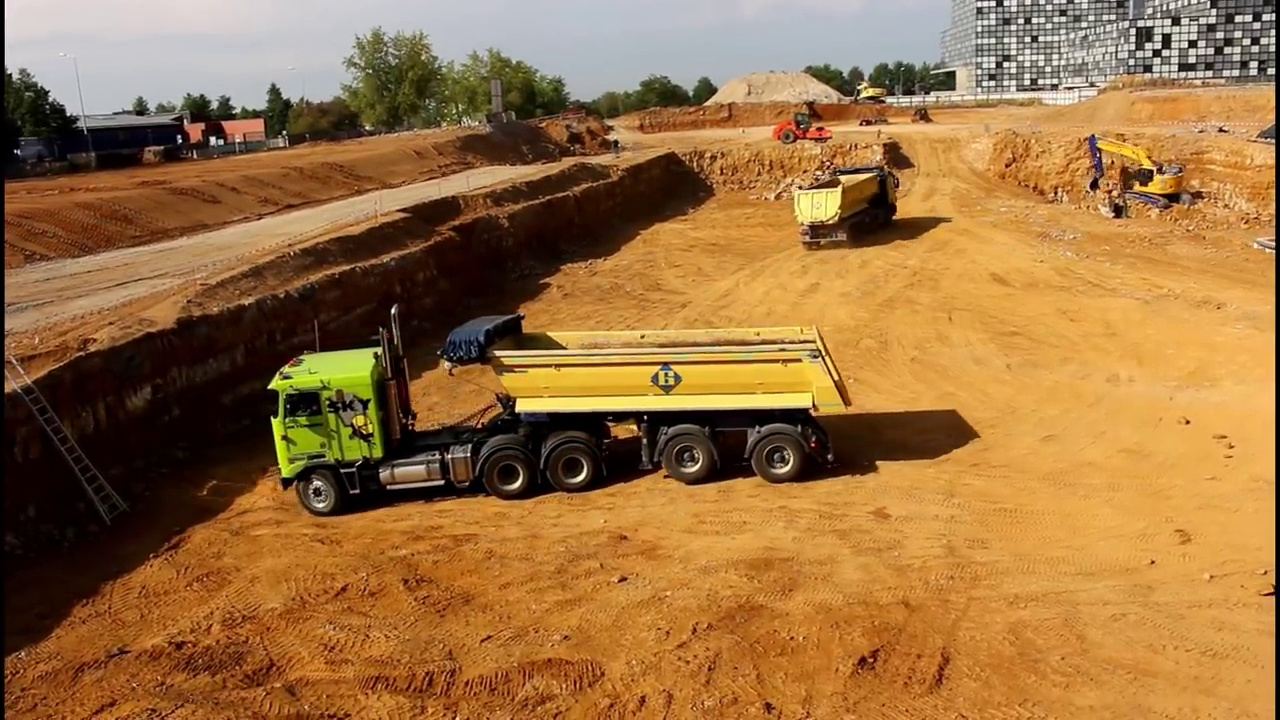compactor: (769, 110, 836, 145)
excavator: (1084, 128, 1198, 213), (847, 81, 889, 105)
truck: (261, 300, 858, 521), (789, 161, 903, 252)
worker: (609, 131, 624, 159)
